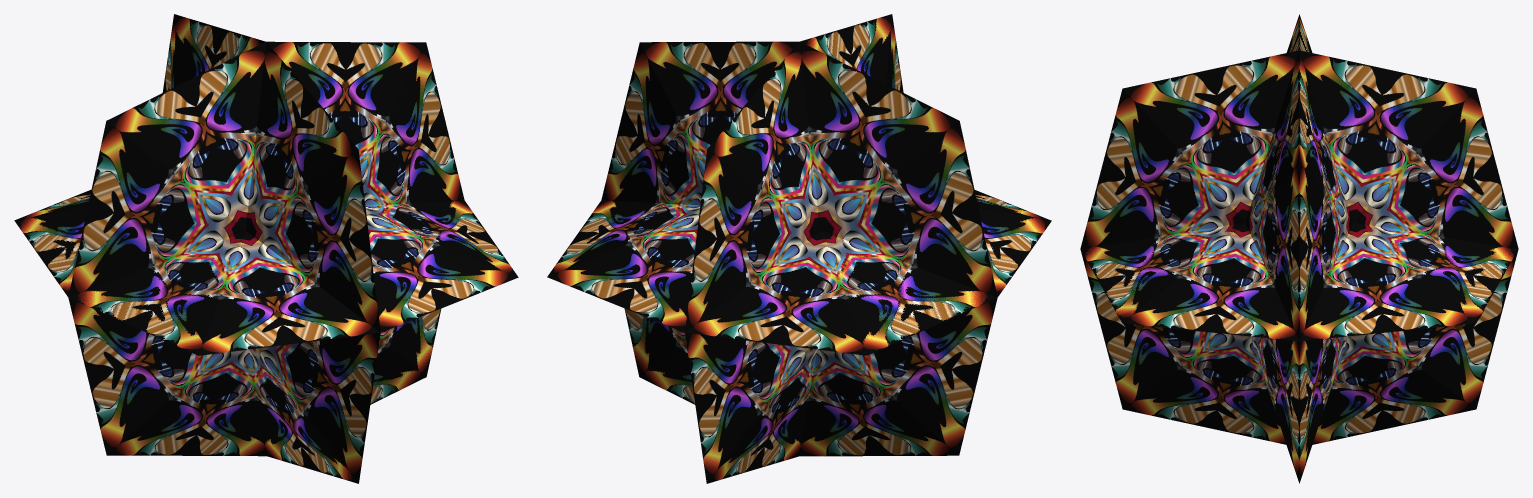
Rendered from Mobius48a_12.obj.
3 views of the same model, side by side, from view 1: azimuth 30°, elevation 25°; view 2: azimuth 150°, elevation 25°; view 3: azimuth 270°, elevation 25° (orthographic). The views are drawn at different scales.
Bounding box in the file's own units: 2.41 × 2.41 × 2.41.
Materials: 1 (1 with a texture image).
